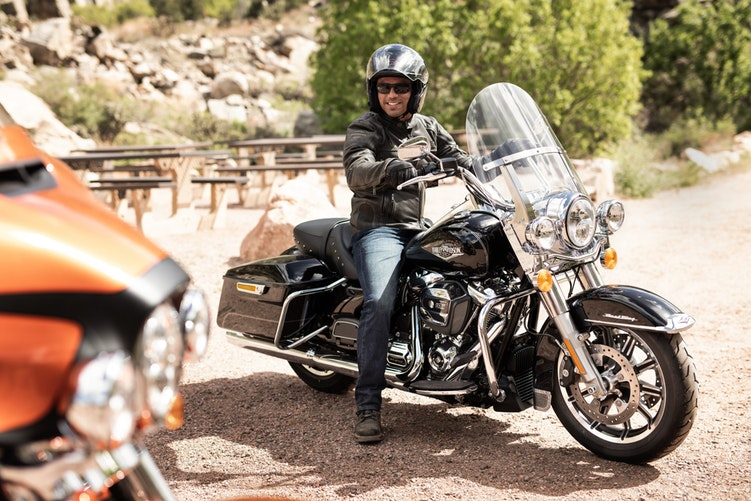helmet: (369, 52, 437, 114)
